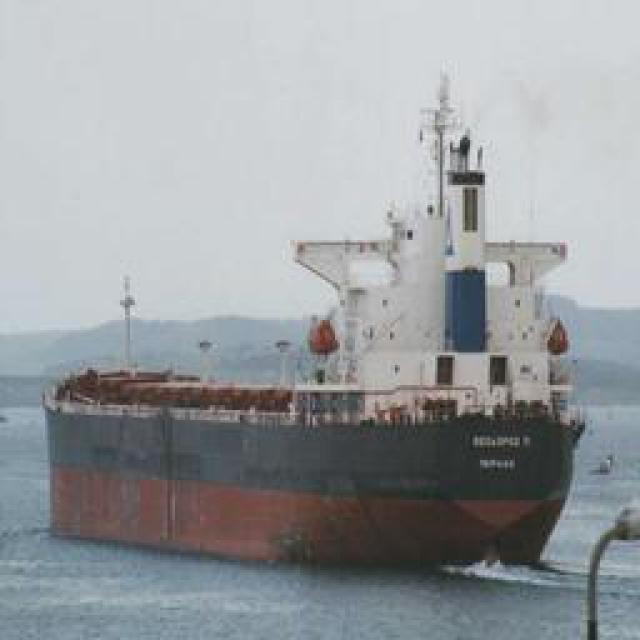Ship: (44, 276, 587, 571)
